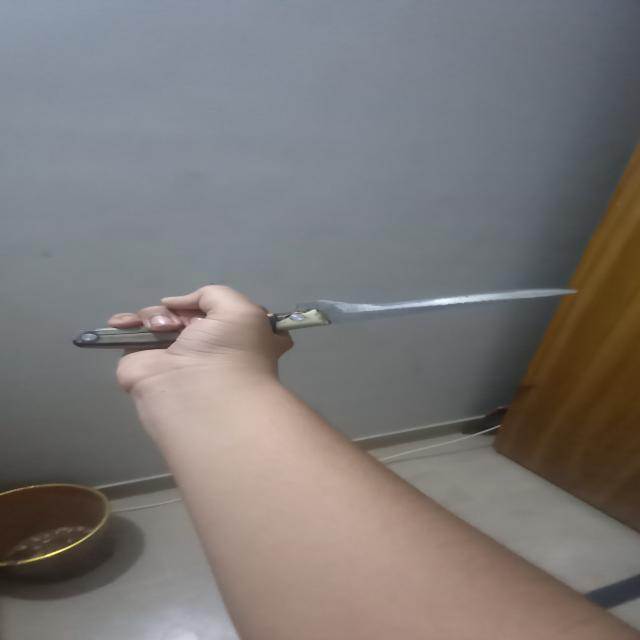weapon: (64, 262, 600, 354)
